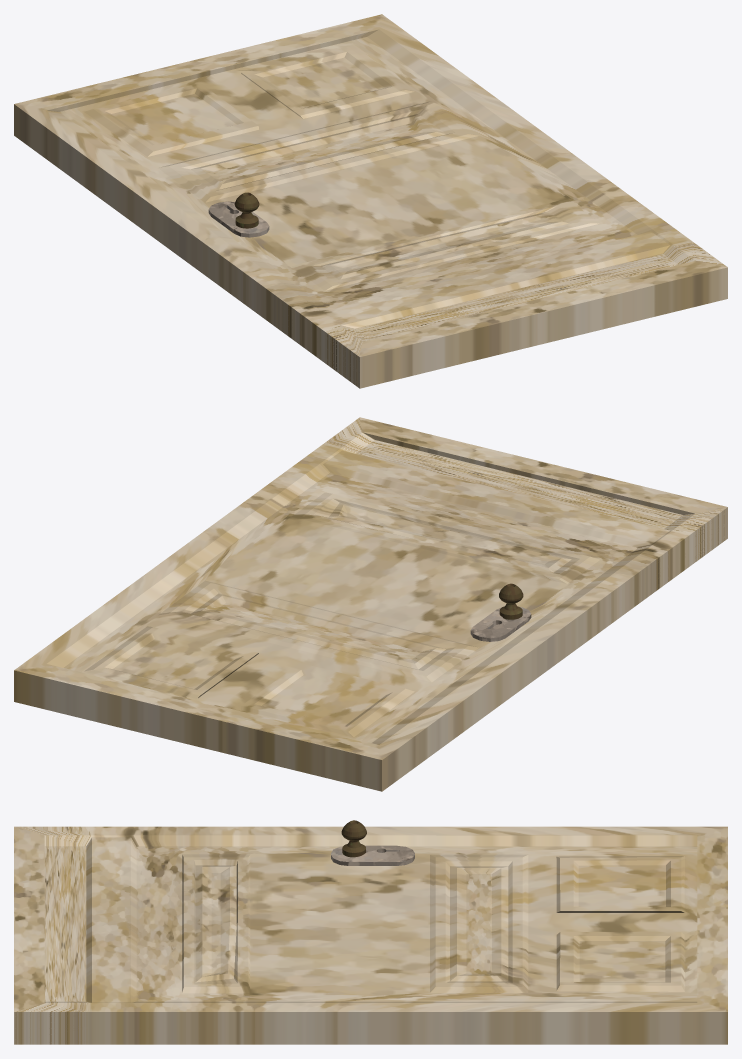
Rendered from Door_new2 (1).fbx.
3 views of the same model, one above another, from view 1: azimuth 30°, elevation 25°; view 2: azimuth 150°, elevation 25°; view 3: azimuth 270°, elevation 25° (orthographic). The views are drawn at different scales.
Visible parts, largest first — view 1: door 1; view 2: door 1; view 3: door 1.
Boxes of the visible parts, x1=… form: door 1: x1=14, y1=14, x2=727, y2=388; door 1: x1=14, y1=417, x2=727, y2=791; door 1: x1=14, y1=820, x2=727, y2=1044.
Size of the model in its own units: 254 by 60.34 by 414.
